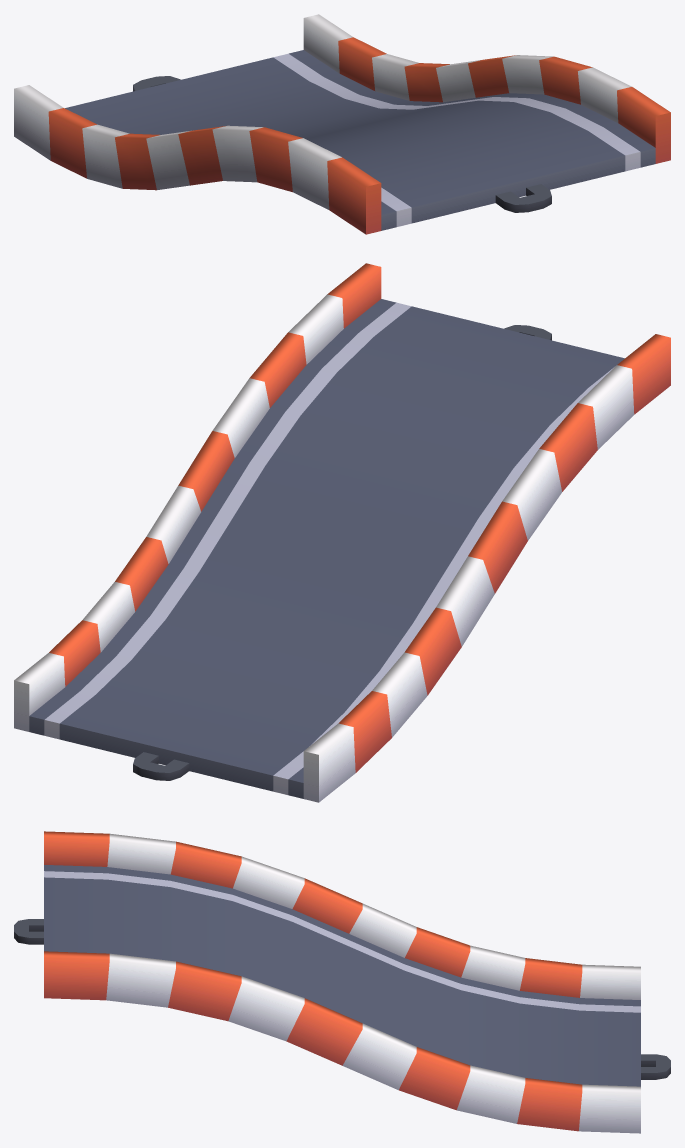
Rendered from track-road-wide-straight-hill-complete.glb.
3 views of the same model, one above another, from view 1: azimuth 30°, elevation 25°; view 2: azimuth 150°, elevation 25°; view 3: azimuth 270°, elevation 25° (orthographic). The views are drawn at different scales.
Visible parts, largest first — view 1: track-road-wide-straight-hill-complete; view 2: track-road-wide-straight-hill-complete; view 3: track-road-wide-straight-hill-complete.
Boxes of the visible parts, <box> form: track-road-wide-straight-hill-complete: <box>14,14,670,234</box>; track-road-wide-straight-hill-complete: <box>14,263,670,802</box>; track-road-wide-straight-hill-complete: <box>14,831,670,1133</box>.
Size of the model in its own units: 2 by 1.3 by 4.4.
Materials: 1 (1 with a texture image).
